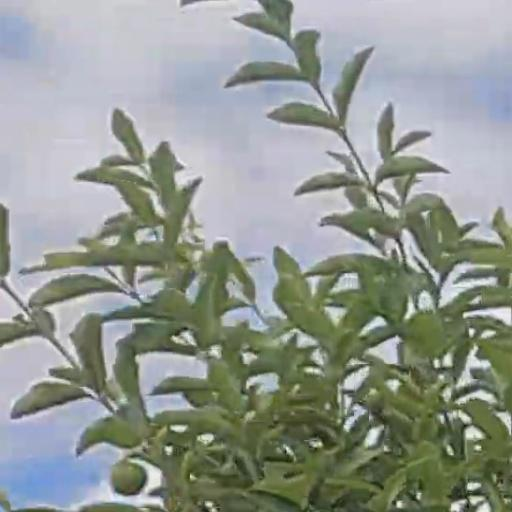acerola_verde: (407, 310, 440, 354), (113, 461, 144, 493)
